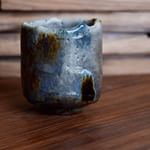cups: (18, 14, 109, 120)
